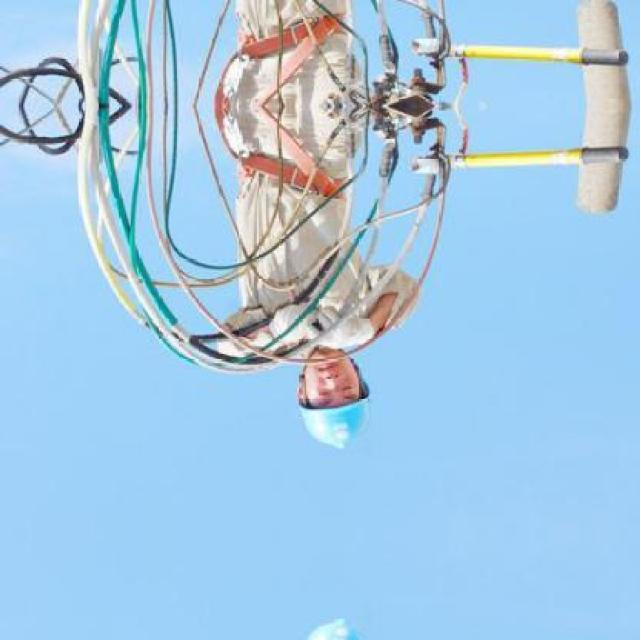safetyhelmet: (294, 372, 371, 458)
